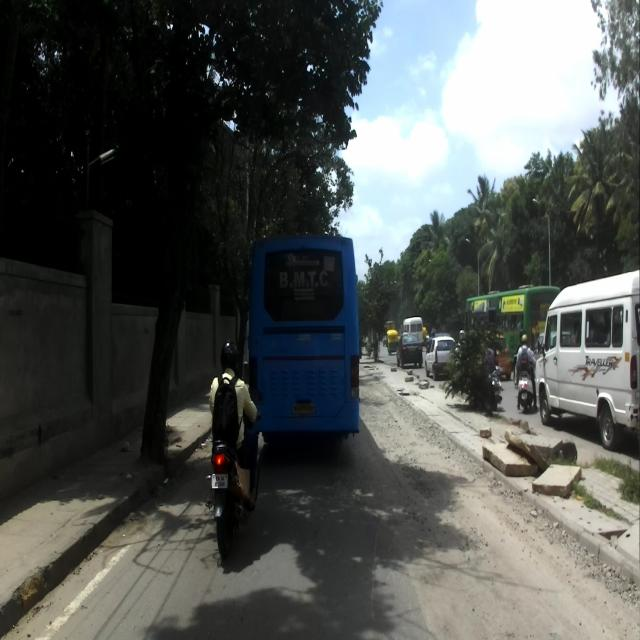bus: (250, 233, 360, 455)
mini-bus: (533, 267, 639, 452)
motorcycle_Honda: (205, 392, 262, 559)
